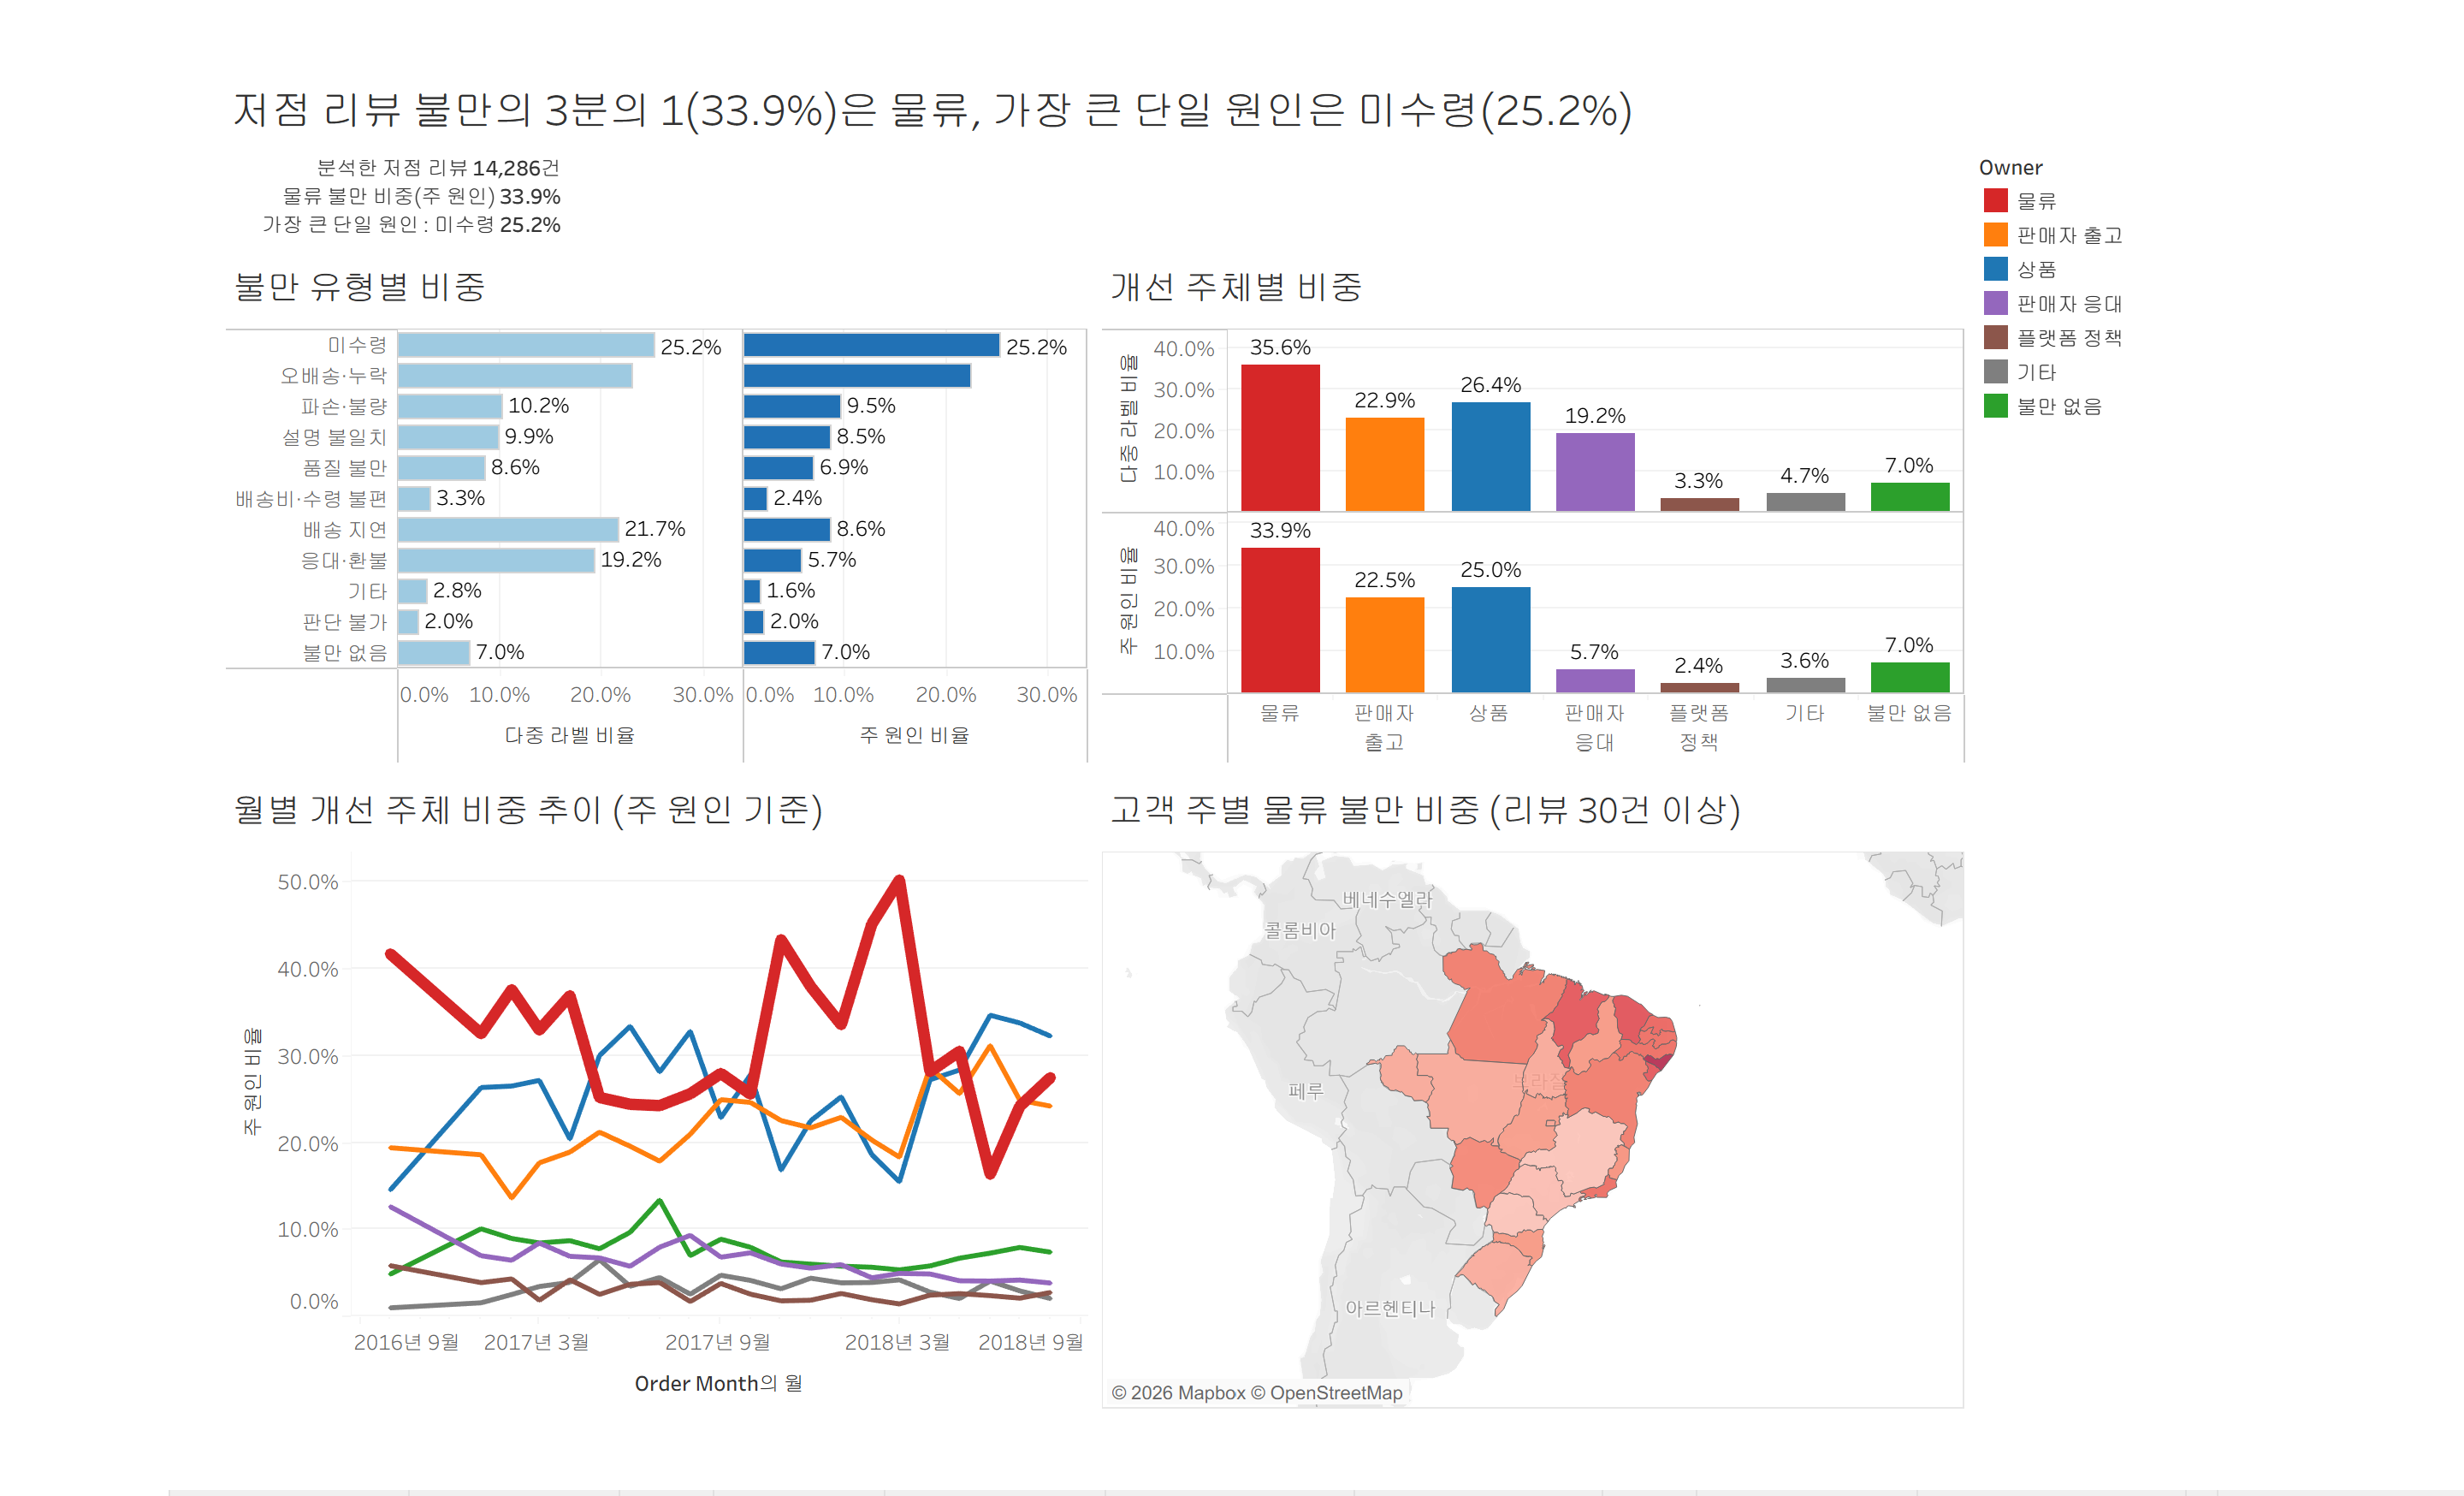

This screenshot's page, from the dashboard's own definition file:
{"tool":"tableau","page":{"name":"① 불만 개요","canvas":[1200,800],"ordinal":0},"visuals":[{"type":"title","box":[8,8,1184,42]},{"type":"worksheet","title":"1-1 KPI","mark":"Automatic","box":[8,50,1024,60]},{"type":"legend","title":"1-3 개선 주체별 비중","param":"[federated.140x9ph1jhacso15jxde019rt3oa].[none:owner:nk]","box":[1032,50,160,166]},{"type":"worksheet","title":"1-2 유형별 비중","mark":"Automatic","rows":["label_ko"],"cols":["Calculation_1184227185430532","Calculation_1184227185655813"],"box":[8,110,511.9,305]},{"type":"worksheet","title":"1-3 개선 주체별 비중","mark":"Automatic","rows":["Calculation_1184227185430532","Calculation_1184227185655813"],"cols":["owner"],"box":[519.9,110,512.1,305]},{"type":"worksheet","title":"1-4 월별 주체 비중 추이","mark":"Automatic","rows":["Calculation_1184227185655813"],"cols":["order_month"],"box":[8,415,511.9,377]},{"type":"worksheet","title":"1-5 고객 주별 물류 비중","mark":"Multipolygon","box":[519.9,415,512.1,377]}]}

Visuals, with their boxes on the page's 1200x800 design canvas (x1, y1, x2, y2). These are canvas units, not pixel positions in the 2464x1496 screenshot, which may show the page scaled, cropped or inside an application window:
title: 8:8:1192:50
"1-1 KPI" worksheet: 8:50:1032:110
"1-3 개선 주체별 비중" legend: 1032:50:1192:216
"1-2 유형별 비중" worksheet: 8:110:520:415
"1-3 개선 주체별 비중" worksheet: 520:110:1032:415
"1-4 월별 주체 비중 추이" worksheet: 8:415:520:792
"1-5 고객 주별 물류 비중" worksheet (Multipolygon marks): 520:415:1032:792
